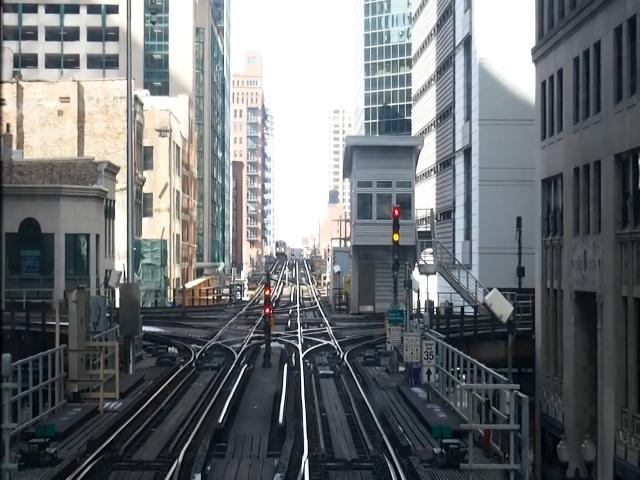signal light: (391, 206, 402, 279), (266, 283, 272, 333)
